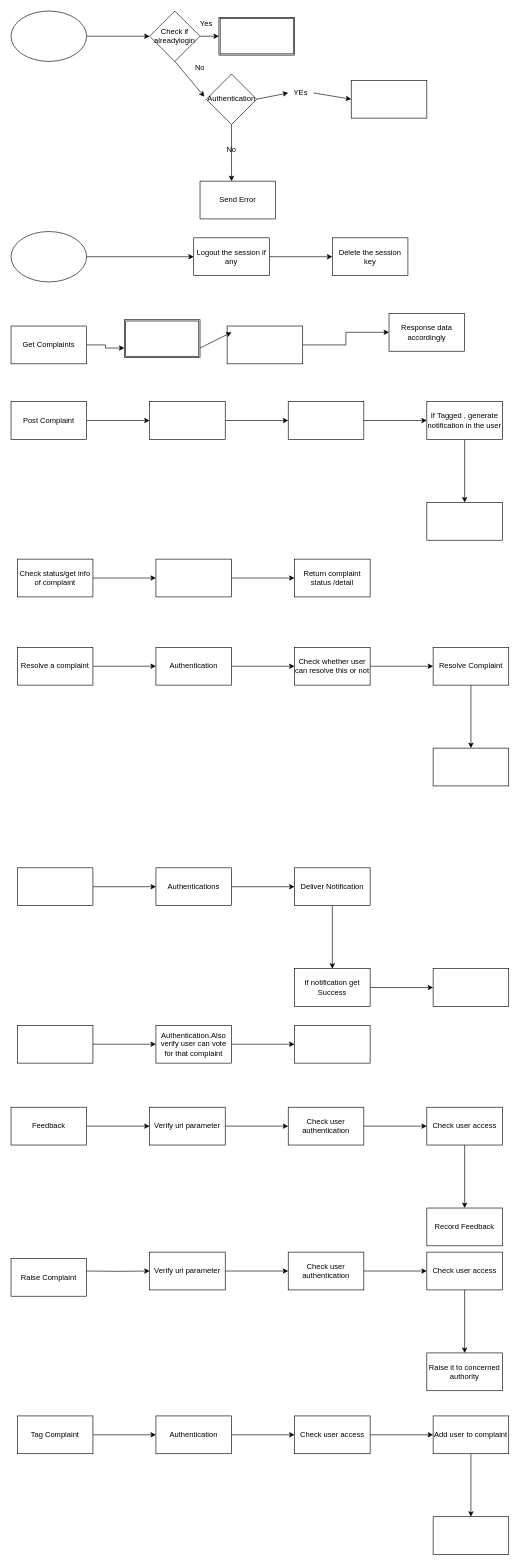
Some shapes in this 520 by 1566 pixel diagram are drawn without their labels. Each missing label, with the centre of its shape:
Add Complaint: (x=326, y=420)
Authenticate: (x=187, y=420)
Check Authentication: (x=162, y=338)
Check Parameters: (x=264, y=344)
Create Session and send homepage data: (x=389, y=99)
Generate notification to tagged user: (x=470, y=1535)
Generate notification to tagged users: (x=470, y=766)
Get Notifications: (x=55, y=886)
If belongs to personal or hostel , check access: (x=193, y=577)
Increase vote and add user to complaint info: (x=332, y=1044)
Login Request: (x=48, y=35)
Logout Request: (x=48, y=256)
Marked it read by user: (x=470, y=987)
Redirect to homepage data: (x=256, y=36)
Send complaint to concerned authority: (x=464, y=521)
Vote: (x=55, y=1044)
